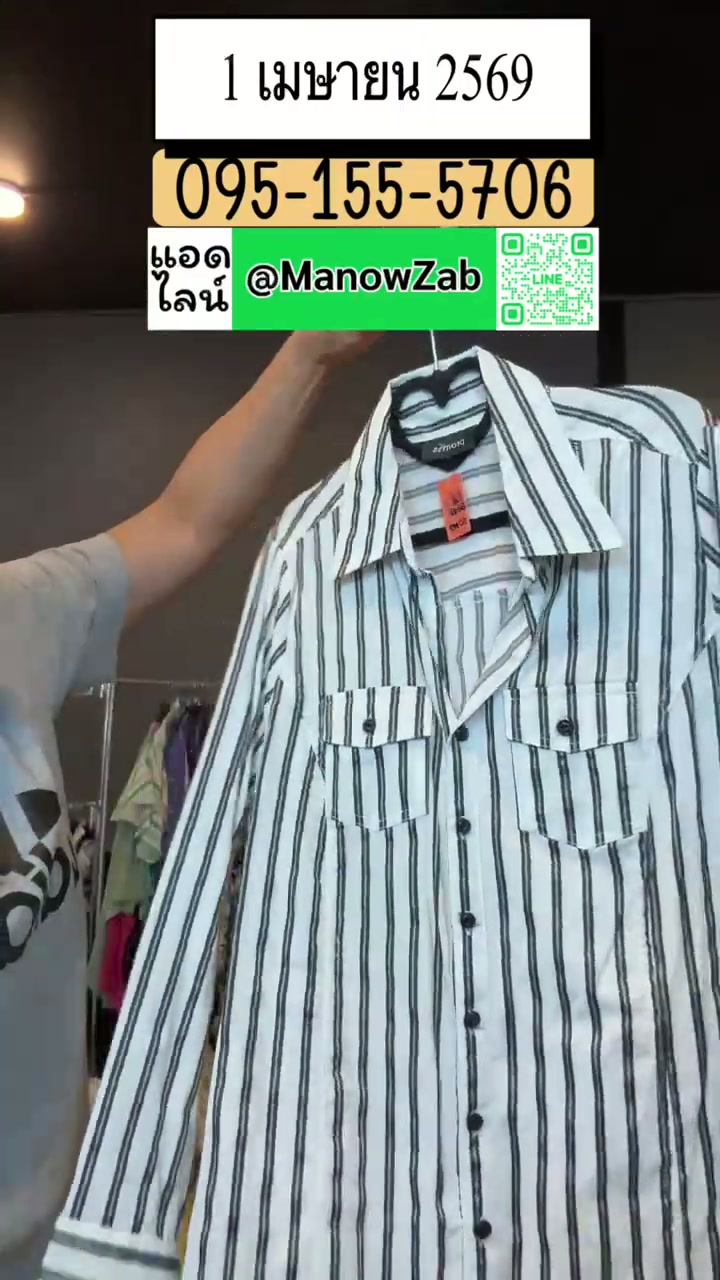display_shirt: (46, 347, 719, 1279)
